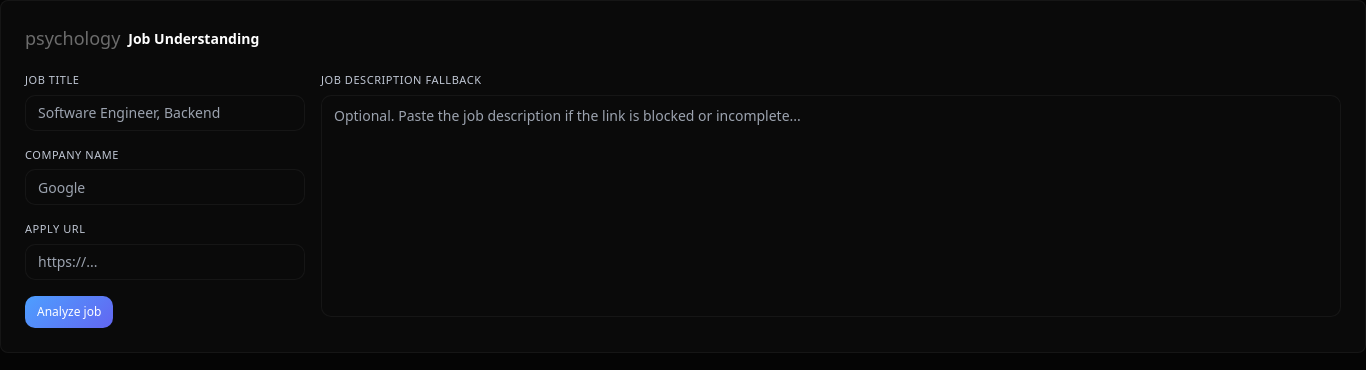
JobAnalysisPanel › submits pasted job text to the job analysis endpoint
The width and height of the screenshot is (1366, 370).
In the field labelled "Job title": (165, 112) [25,94,305,130], type "Software Engineer, Full Stack"
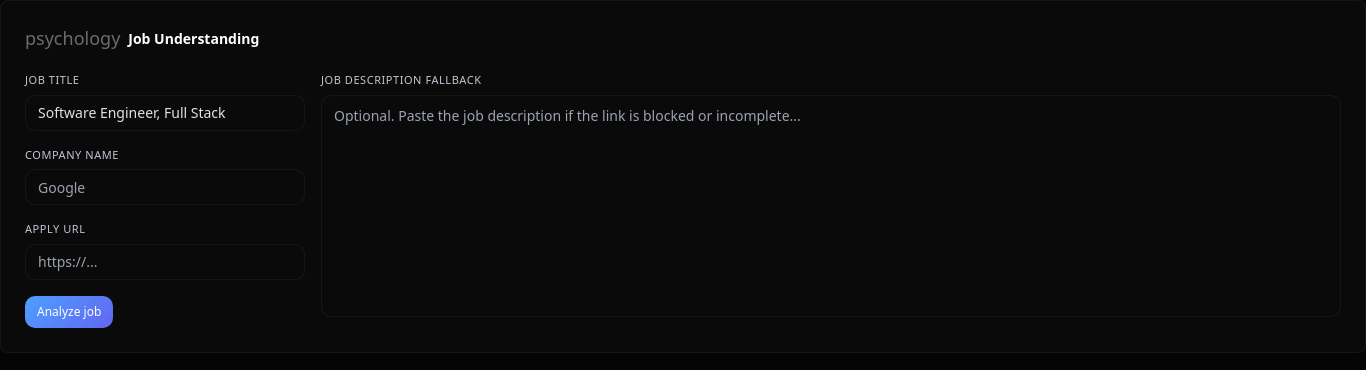
In the field labelled "Company name": (165, 187) [25,169,305,205], type "Nooks"
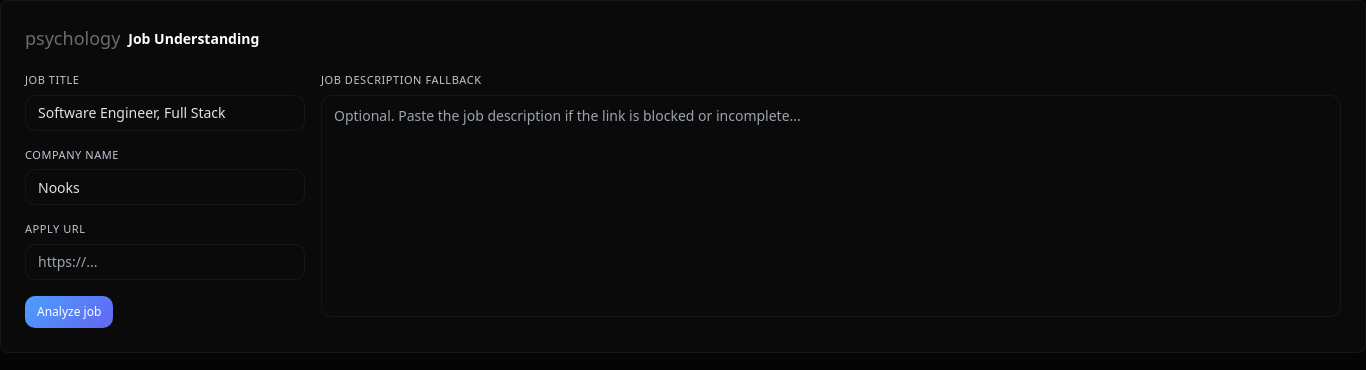
In the field labelled "Apply URL": (165, 262) [25,244,305,280], type "https://jobs.example.com/nooks/full-stack"
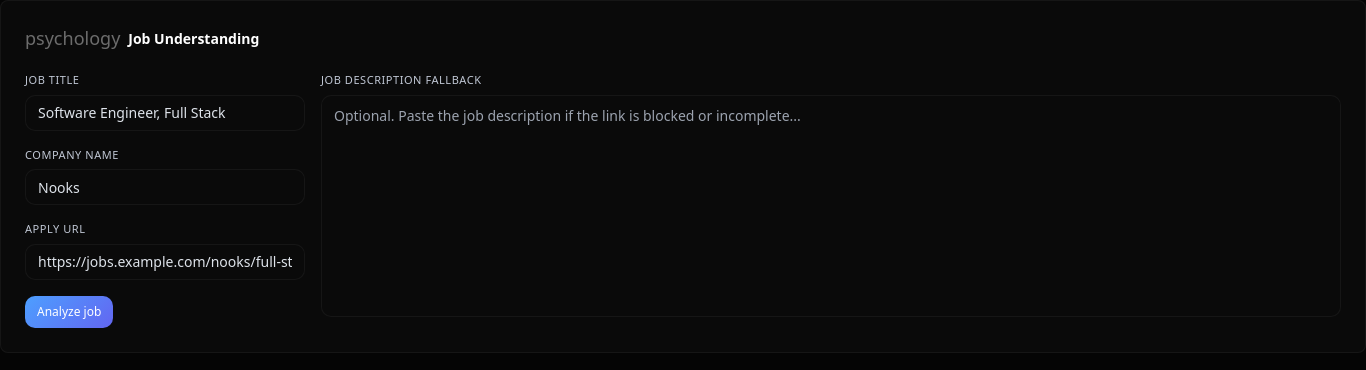
Replace the text in the text box labelled "Job description fallback" with "Build React, TypeScript, Node, and Postgres workflows for customer-facing AI products.": (831, 206) [321,94,1341,316]
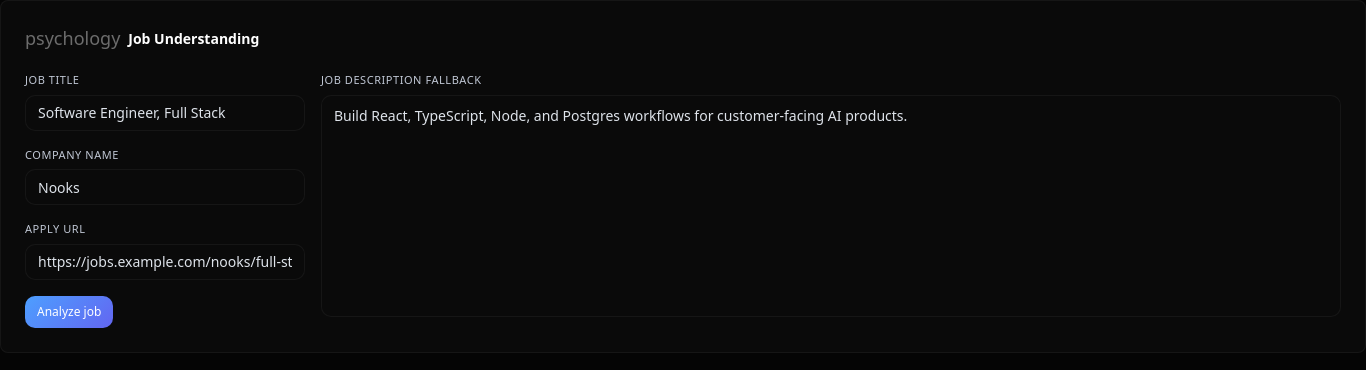
Click the button "Analyze job": (69, 312) [25,296,113,328]
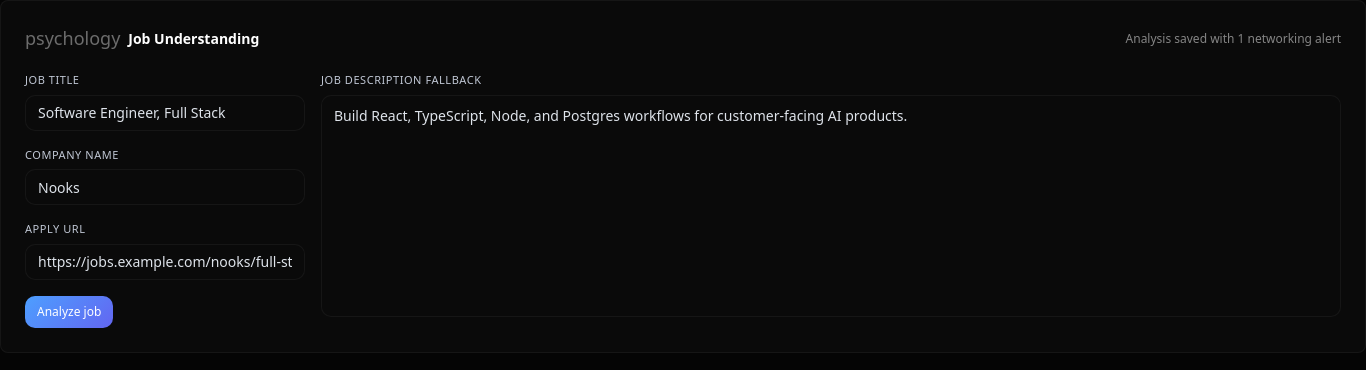
expect the text "Analysis saved with 1 networking alert" is shown: met, box [1126,30,1341,46]
